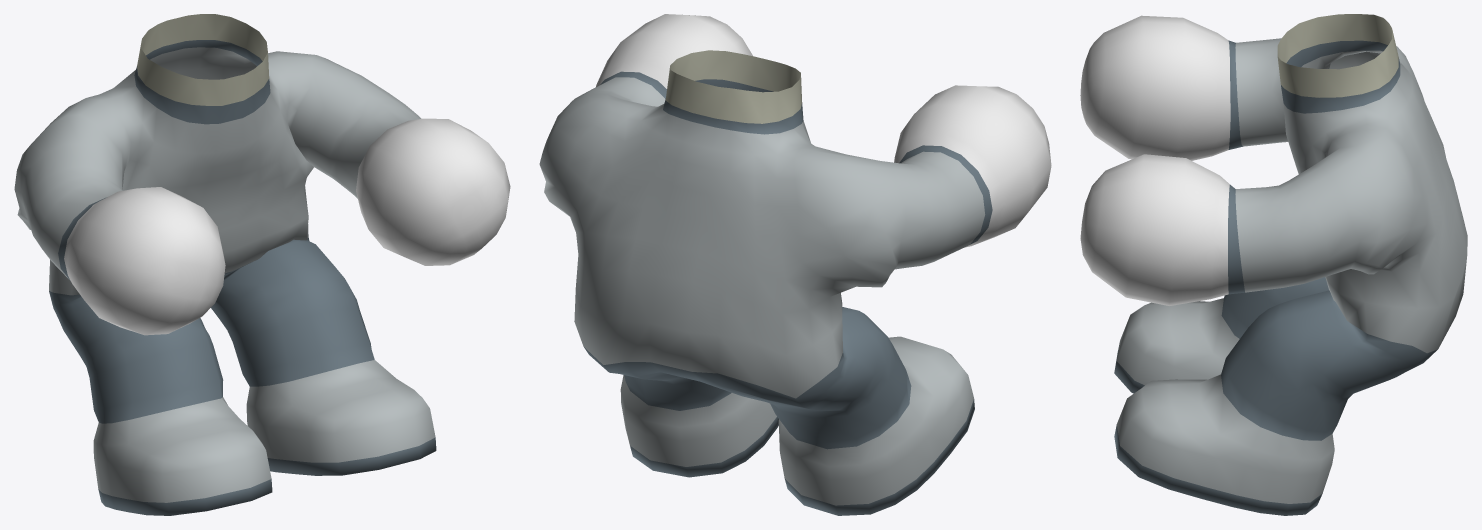
File: scene_human0.fbx
3 views of the same model, side by side, from view 1: azimuth 30°, elevation 25°; view 2: azimuth 150°, elevation 25°; view 3: azimuth 270°, elevation 25° (orthographic). The views are drawn at different scales.
Parts seen in each view (by area): view 1: body_N1; view 2: body_N1; view 3: body_N1.
Part boxes in pixels (box(x1,y1,x2,y2)): body_N1: box(14, 14, 510, 515); body_N1: box(539, 14, 1051, 515); body_N1: box(1080, 14, 1467, 515).
Size of the model in its own units: 109 by 106 by 87.12.
